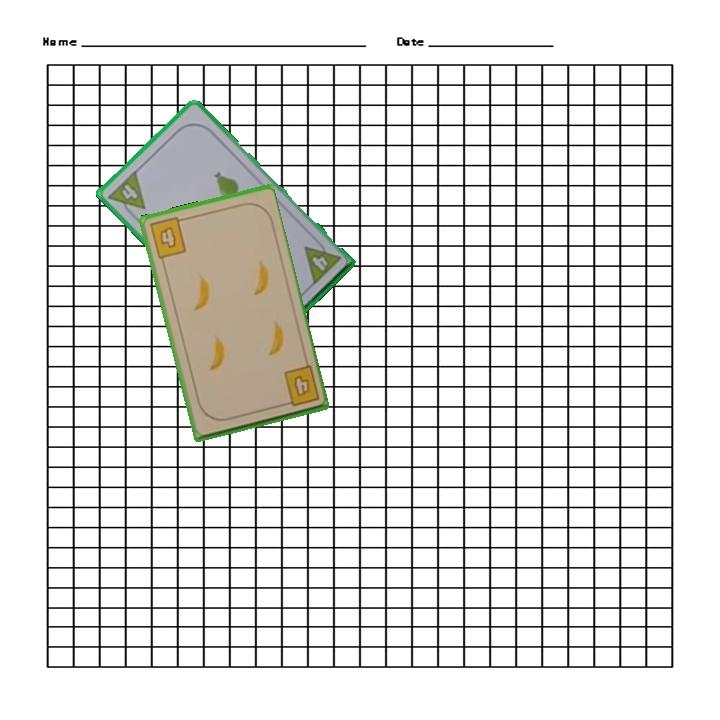4b: (278, 362, 322, 409), (146, 214, 189, 261)
4p: (104, 167, 148, 221), (300, 235, 343, 288)
